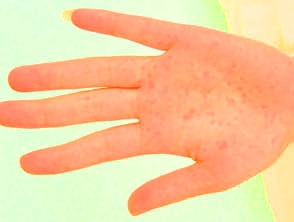SJS-TEN: (118, 14, 294, 179)
